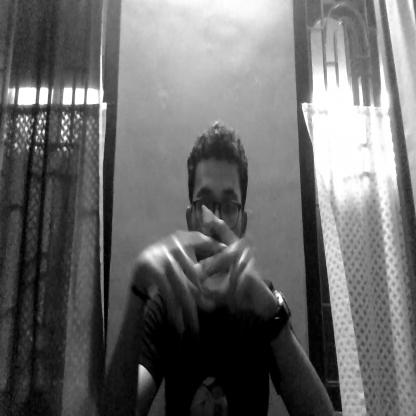Normal: (188, 116, 247, 275)
